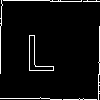L: (25, 25, 57, 72)
